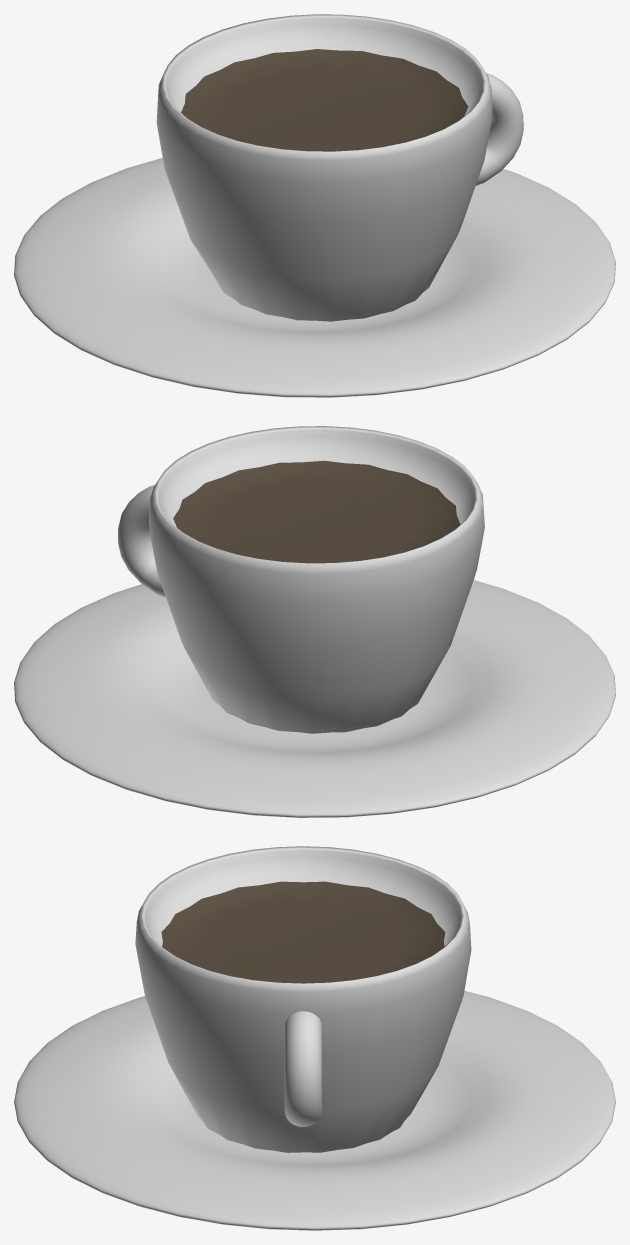
Rendered from CoffeeAirport.fbx.
3 views of the same model, one above another, from view 1: azimuth 30°, elevation 25°; view 2: azimuth 150°, elevation 25°; view 3: azimuth 270°, elevation 25° (orthographic).
Parts seen in each view (by area): view 1: pCylinder1, pSphere1, pCylinder2; view 2: pCylinder1, pSphere1, pCylinder2; view 3: pCylinder1, pSphere1, pCylinder2.
Part boxes in pixels (x1,y1,x2,y2): pCylinder1: (156,14,492,321); pSphere1: (14,158,615,397); pCylinder2: (475,73,523,185); pCylinder1: (149,426,484,733); pSphere1: (14,580,615,817); pCylinder2: (118,485,165,597); pCylinder1: (135,846,471,1152); pSphere1: (14,990,615,1230); pCylinder2: (284,1011,321,1126).
Bounding box in the file's own units: 1.71 × 0.724 × 1.71.
